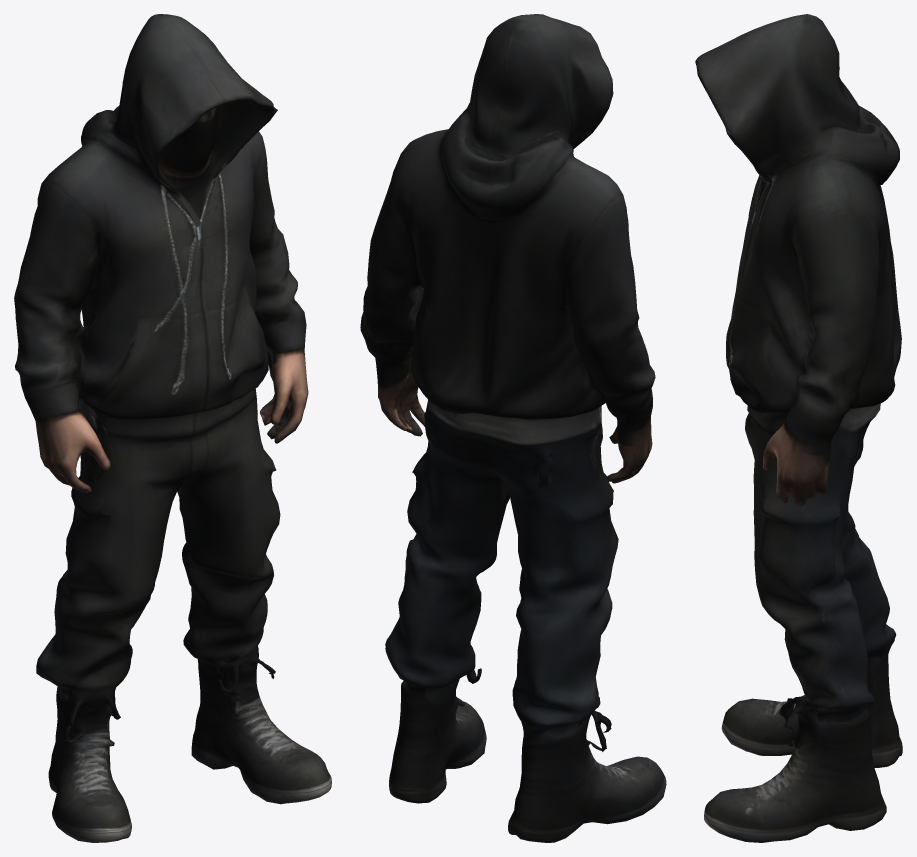
File: gangster.glb
3 views of the same model, side by side, from view 1: azimuth 30°, elevation 25°; view 2: azimuth 150°, elevation 25°; view 3: azimuth 270°, elevation 25° (orthographic).
Size of the model in its own units: 0.7614 by 2 by 0.4891.
1 material, 1 textured.
